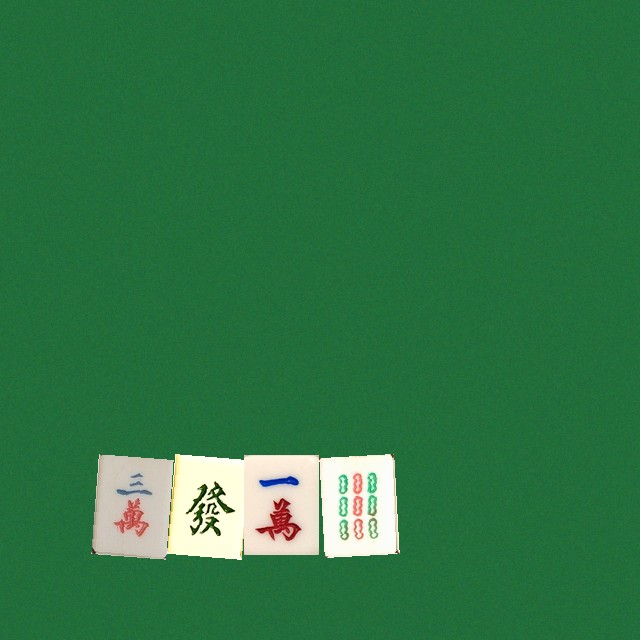tile: (91, 454, 166, 554), (167, 454, 242, 554), (243, 454, 318, 554), (319, 454, 394, 554)
